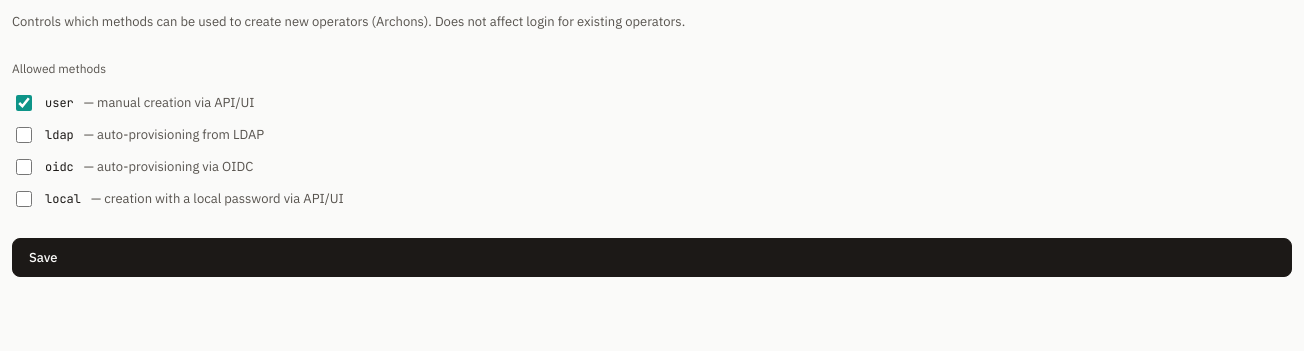
Test case: ProvisioningPolicy › successful PUT → shows the saved message
Click the button with test id "save-policy-btn".
click(43, 257)  # box [12, 238, 1292, 276]
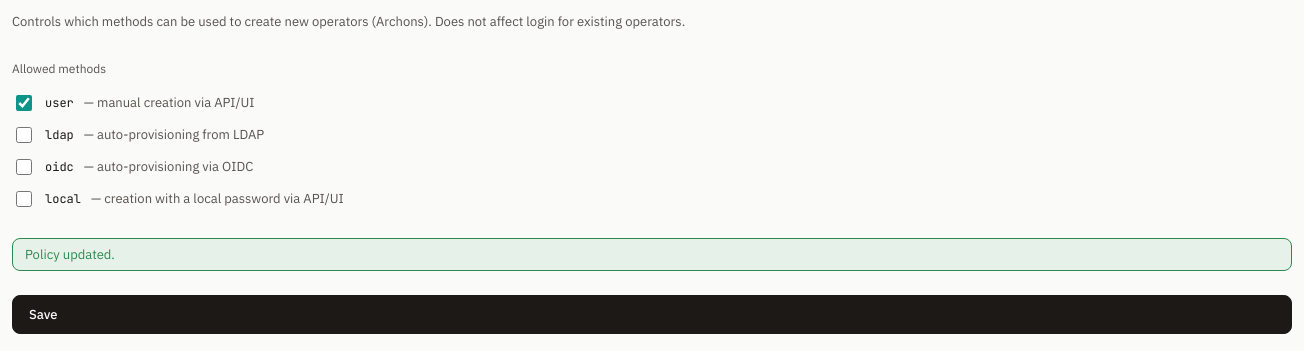
Check: the message "Policy updated." is shown, box [12, 238, 1292, 271]
